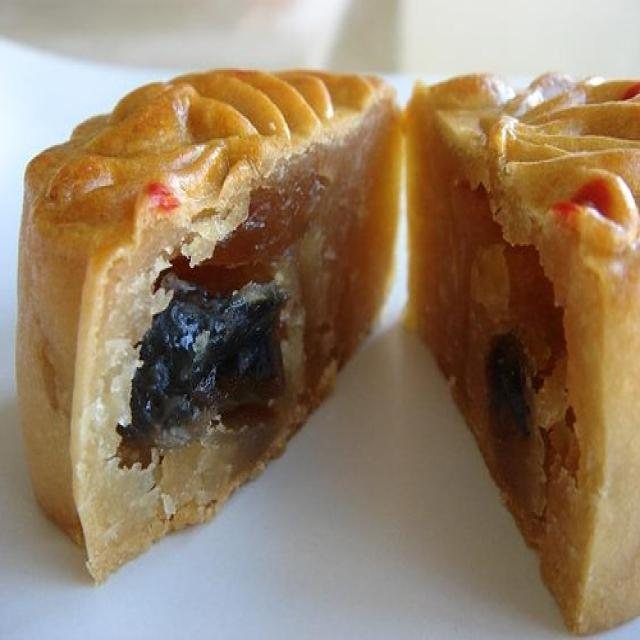蛋糕甜品: (27, 31, 635, 618)
